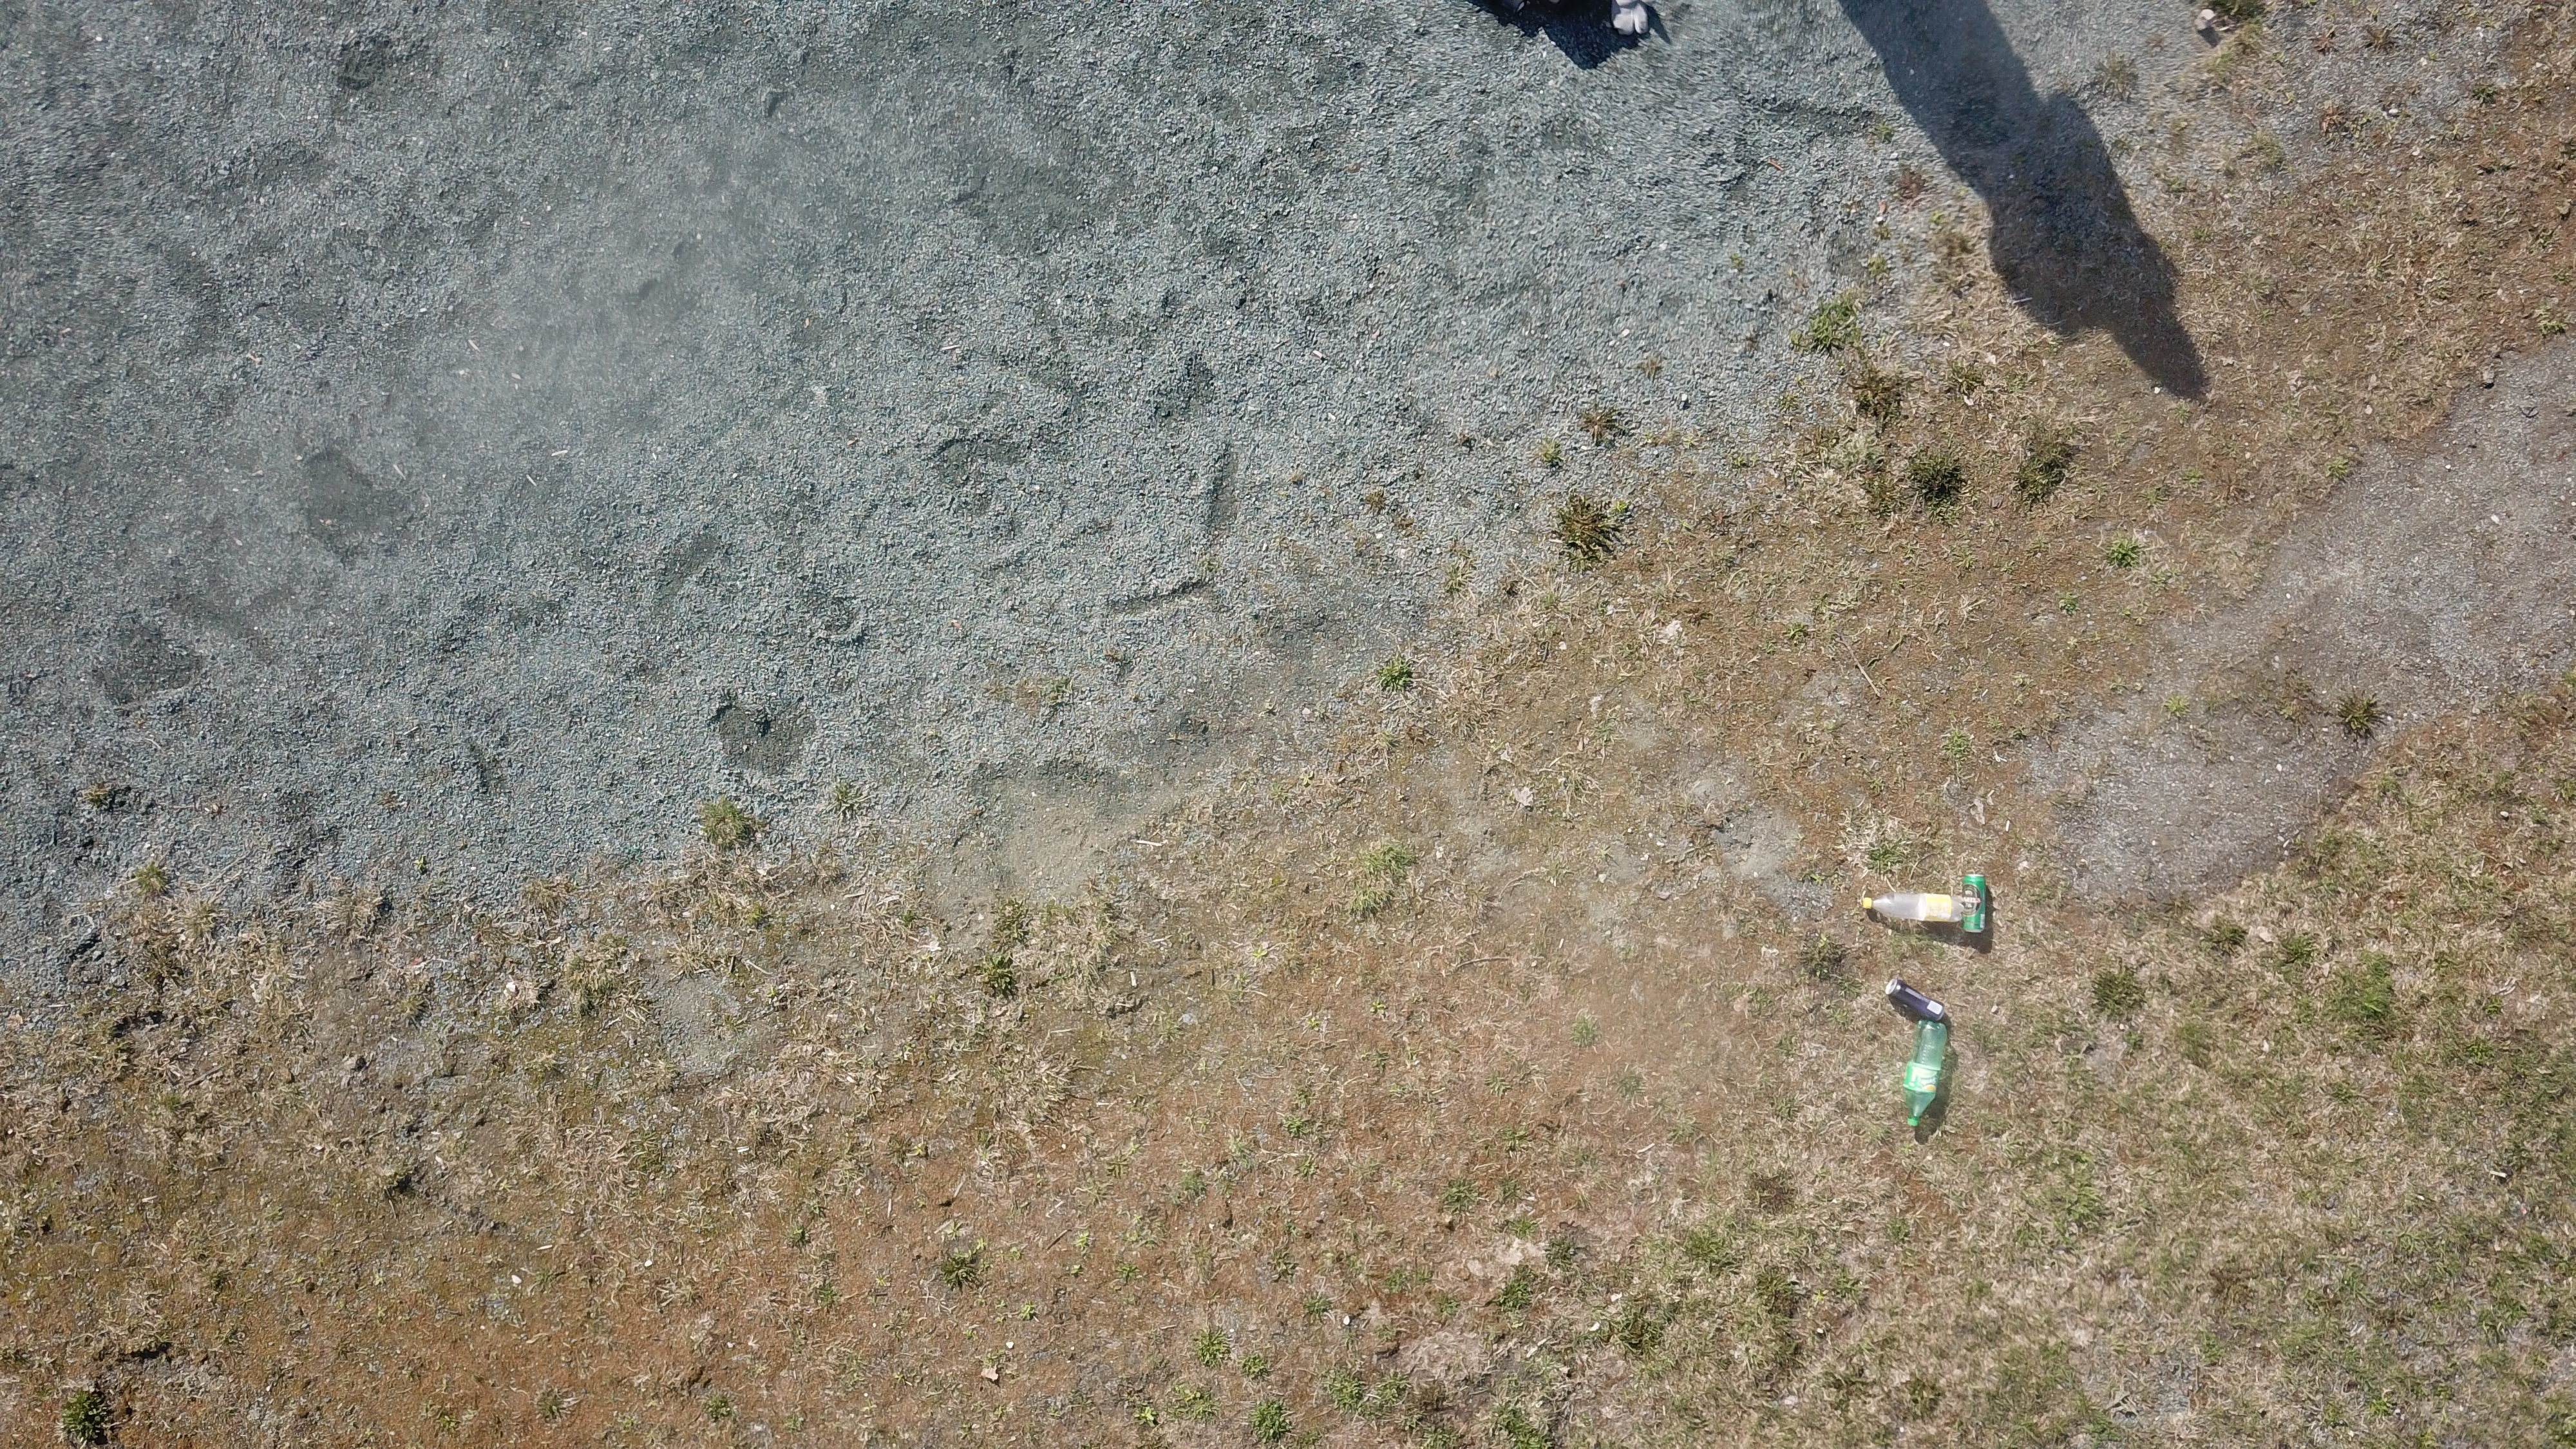Can: (1882, 978, 1946, 1021), (1962, 874, 1987, 934)
PlasticBottle: (1904, 1021, 1948, 1127), (1865, 892, 1964, 924)
